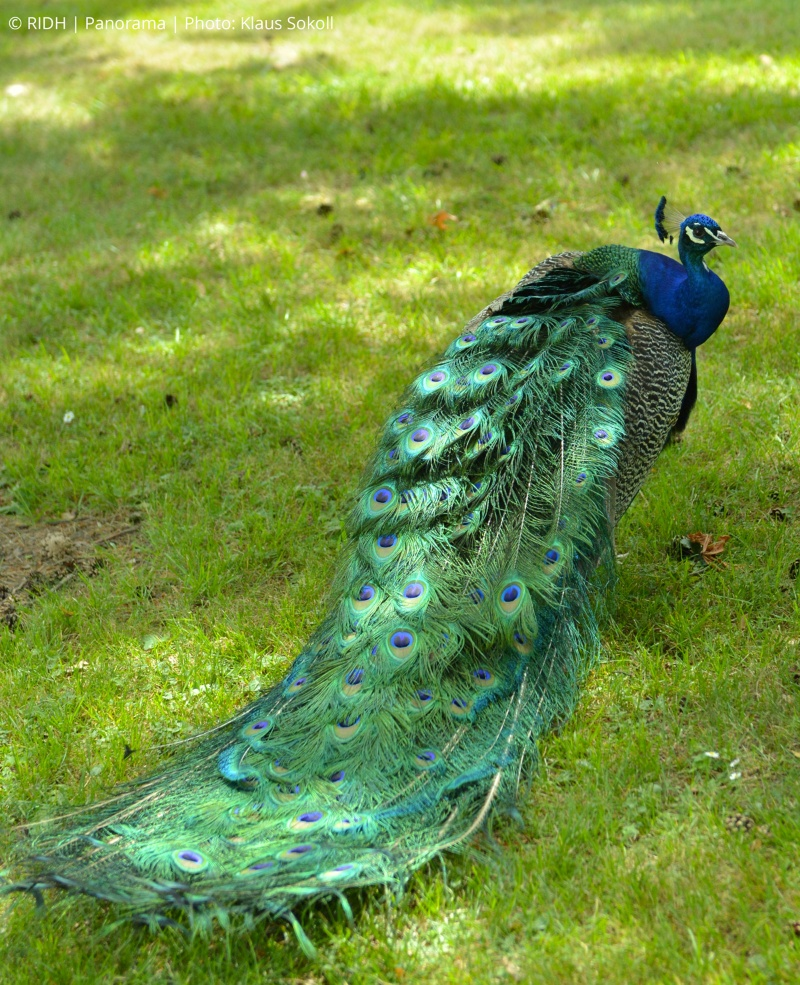pavoreal: (458, 195, 728, 498)
